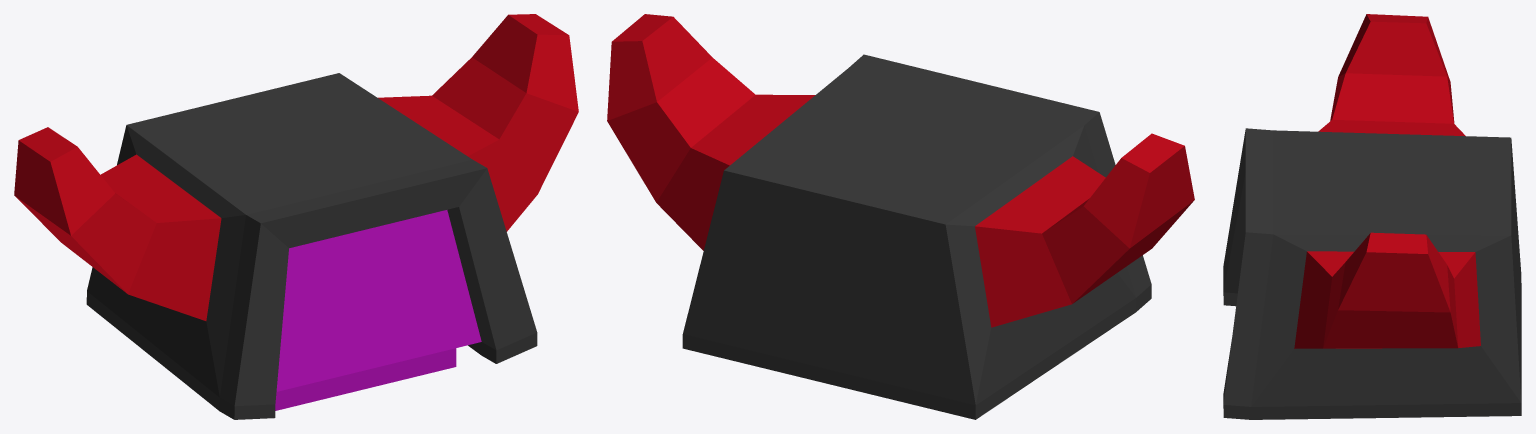
Rendered from DemonHead.fbx.
The picture shows the model from 3 angles, left to right: view 1: azimuth 30°, elevation 25°; view 2: azimuth 150°, elevation 25°; view 3: azimuth 270°, elevation 25°; orthographic projection. The views are drawn at different scales.
Parts seen in each view (by area): view 1: Tank.005; view 2: Tank.005; view 3: Tank.005.
Part boxes in pixels (x1,y1,x2,y2): Tank.005: [14, 14, 578, 419]; Tank.005: [607, 14, 1194, 419]; Tank.005: [1223, 14, 1521, 419].
Size of the model in its own units: 2.64 by 1.39 by 1.26.
